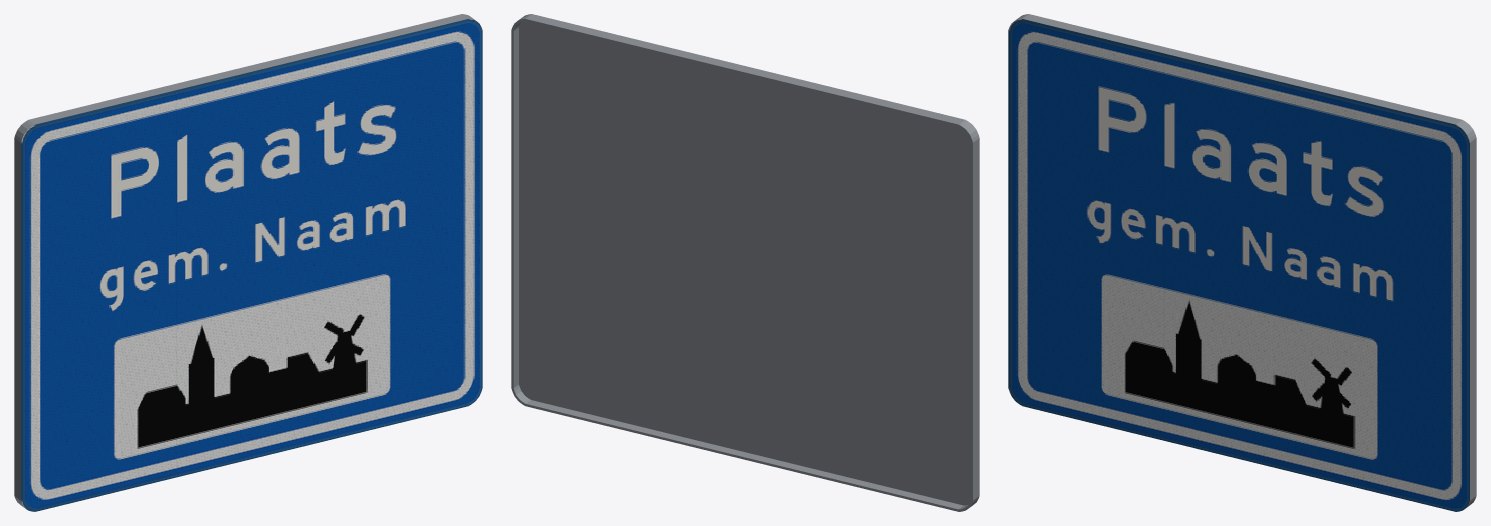
3 renders of one model, left to right at view 1: azimuth 30°, elevation 25°; view 2: azimuth 150°, elevation 25°; view 3: azimuth 330°, elevation 25°, orthographic.
Visible parts, largest first — view 1: cat_218080f5c9c2b03f; view 2: cat_218080f5c9c2b03f; view 3: cat_218080f5c9c2b03f.
Part boxes in pixels (x1,y1,x2,y2): cat_218080f5c9c2b03f: (14, 14, 482, 511); cat_218080f5c9c2b03f: (511, 14, 979, 511); cat_218080f5c9c2b03f: (1008, 14, 1476, 511).
Bounding box in the file's own units: 0.6 × 0.015 × 0.481.
2 materials, 1 textured.
